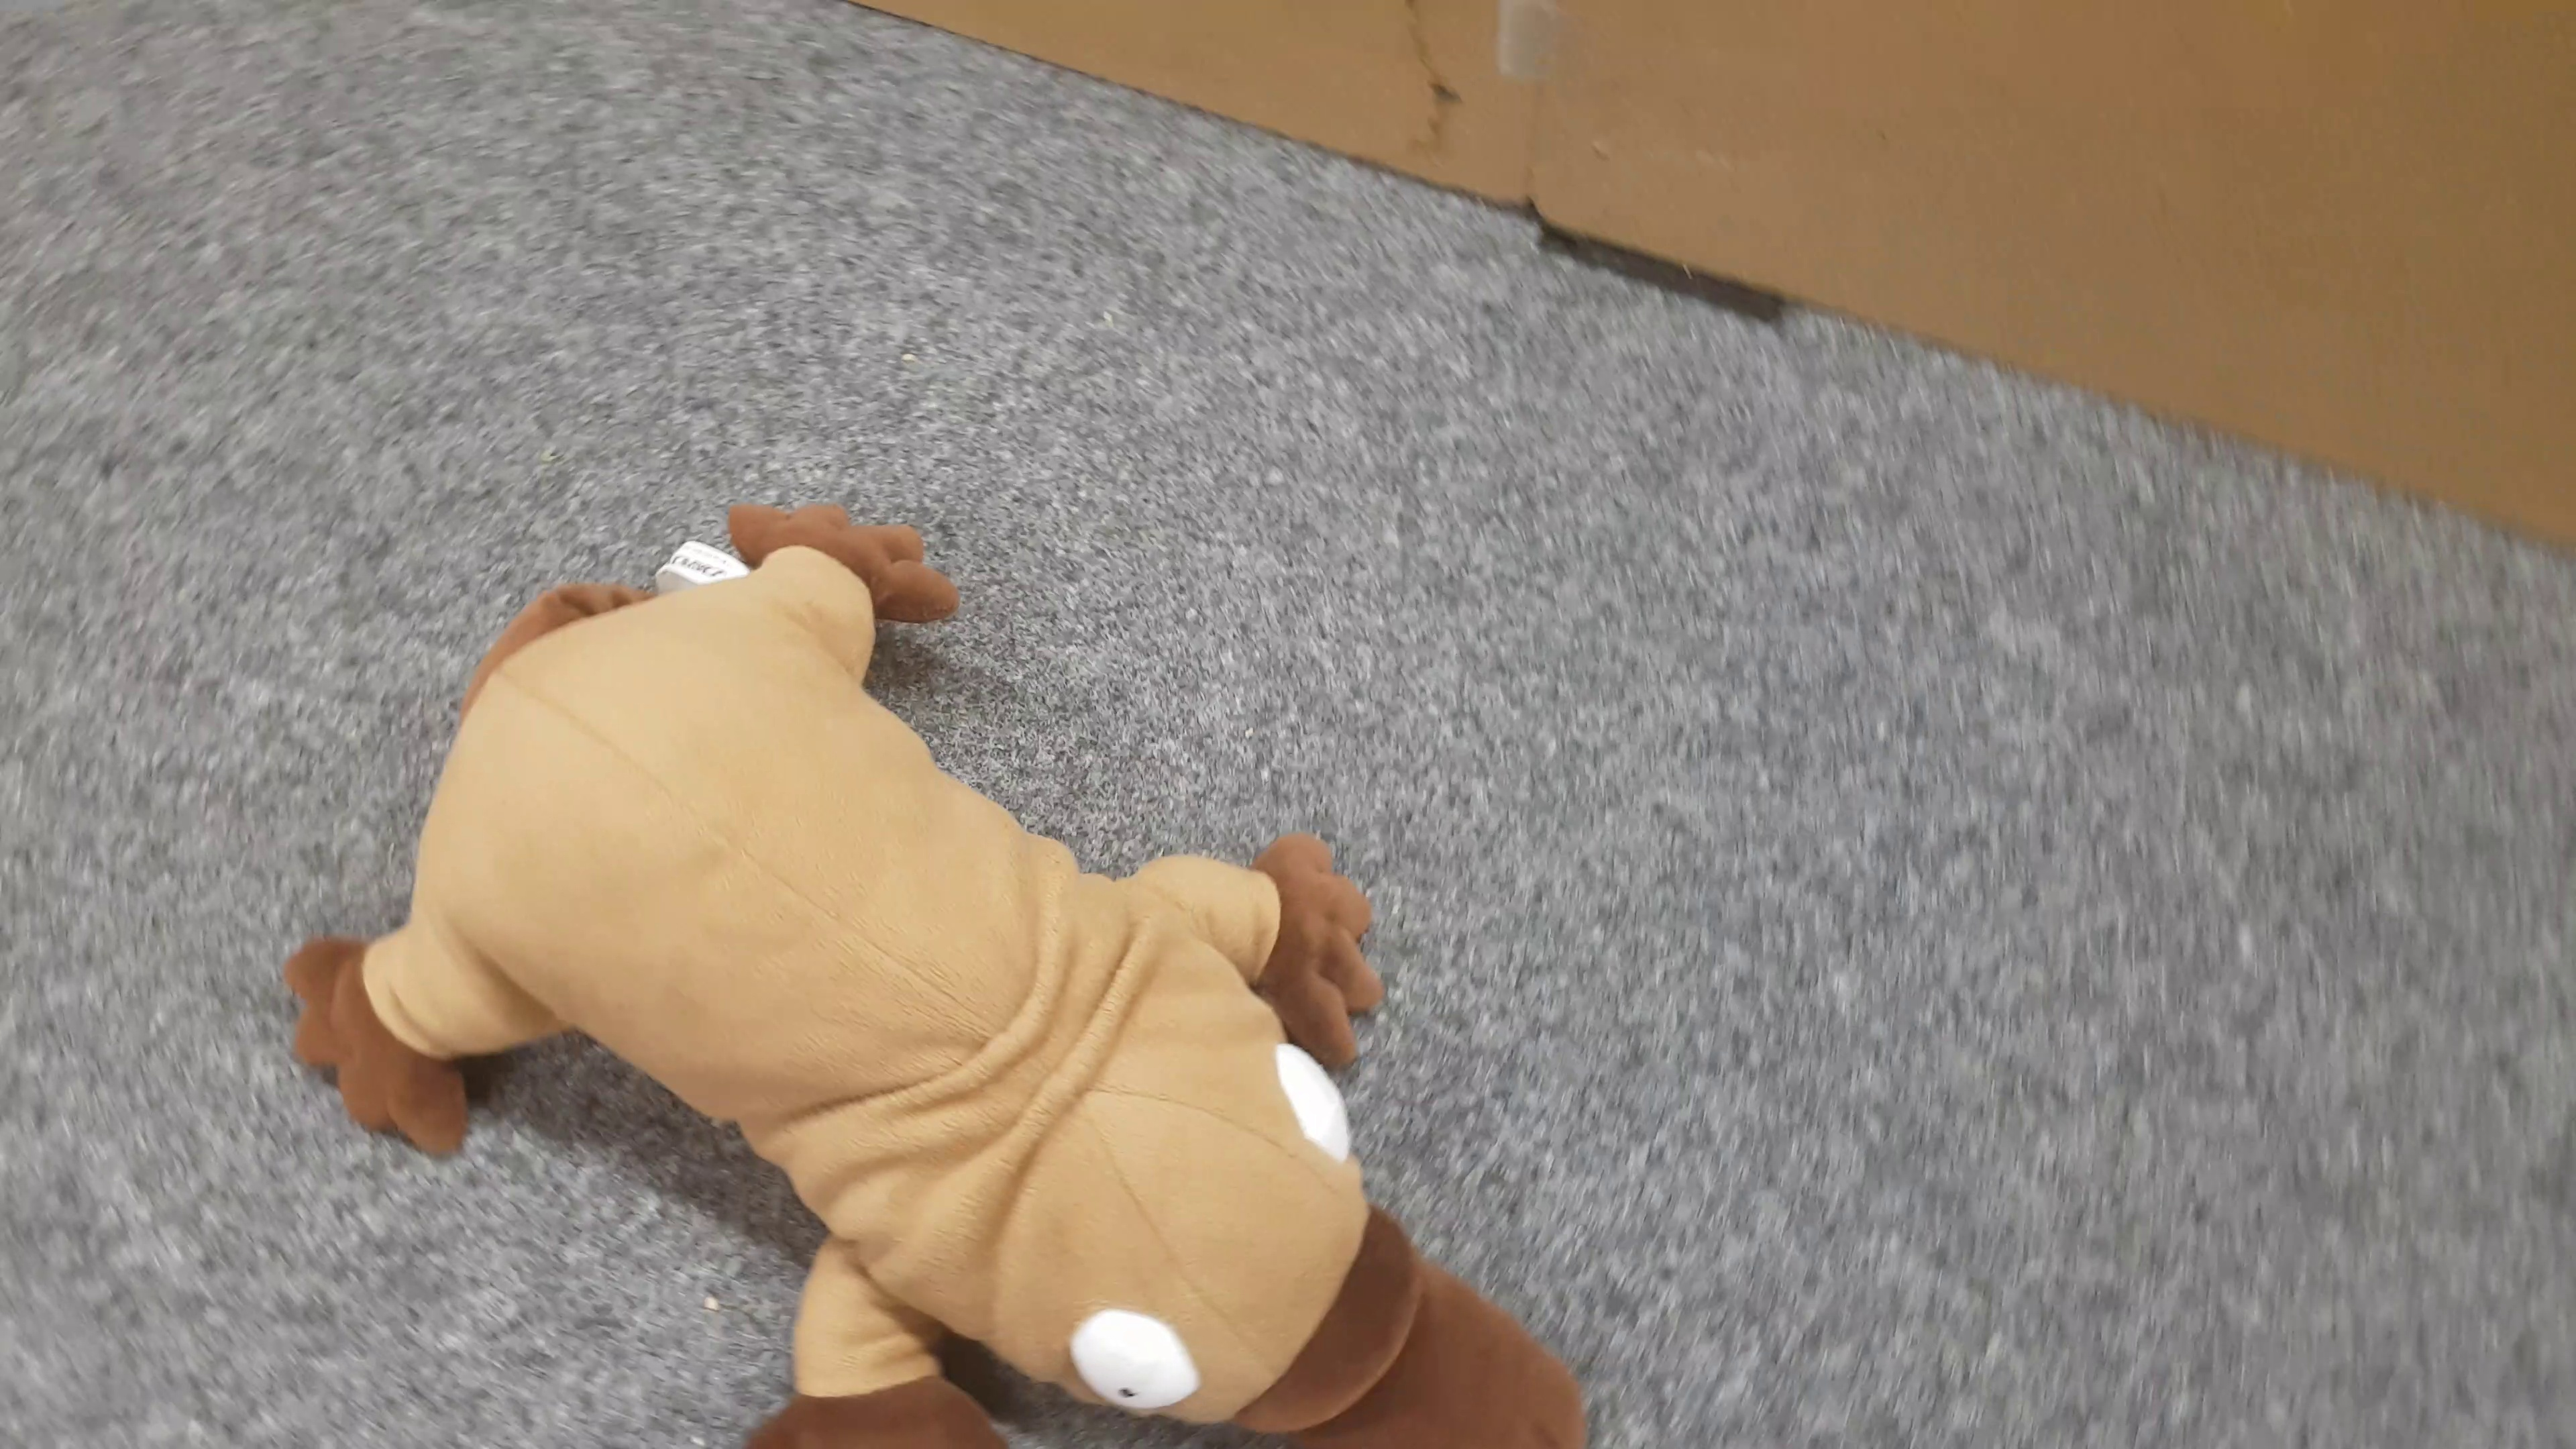grasp: (272, 492, 1601, 1449)
